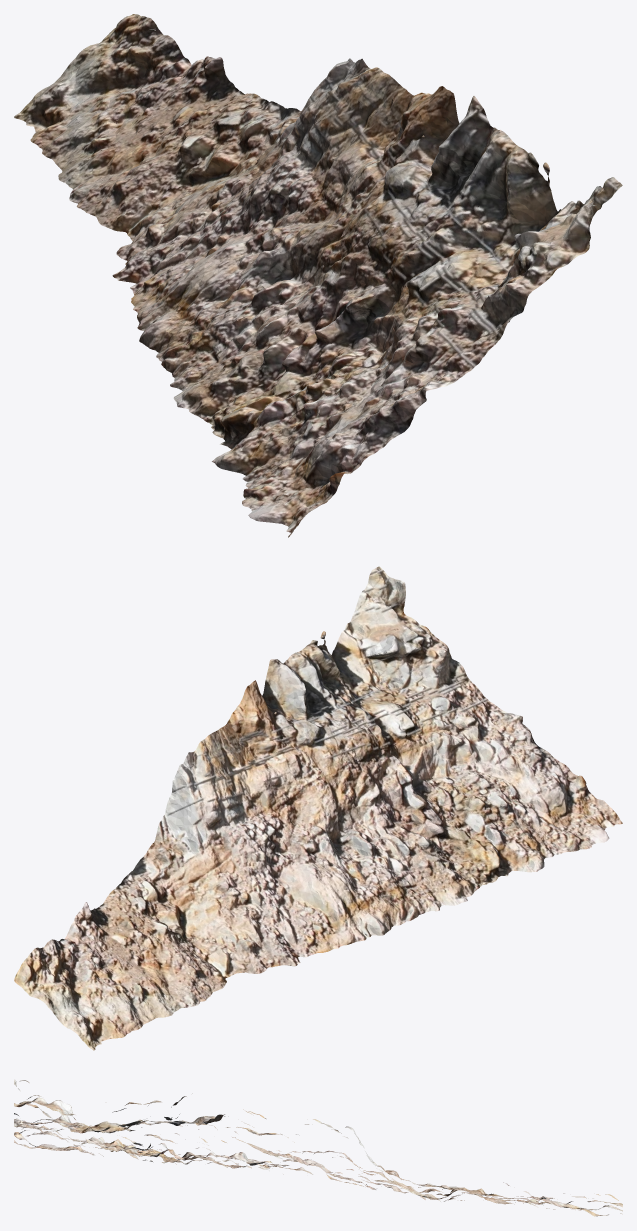
3 views of the same model, one above another, from view 1: azimuth 30°, elevation 25°; view 2: azimuth 150°, elevation 25°; view 3: azimuth 270°, elevation 25° (orthographic). The views are drawn at different scales.
Bounding box in the file's own units: 3.02 × 2.29 × 7.63.
Materials: 1 (1 with a texture image).
